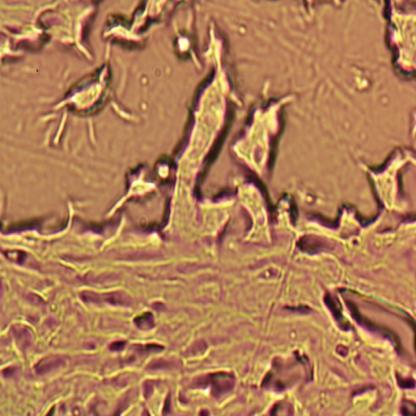Stage I: (3, 174, 416, 416)
